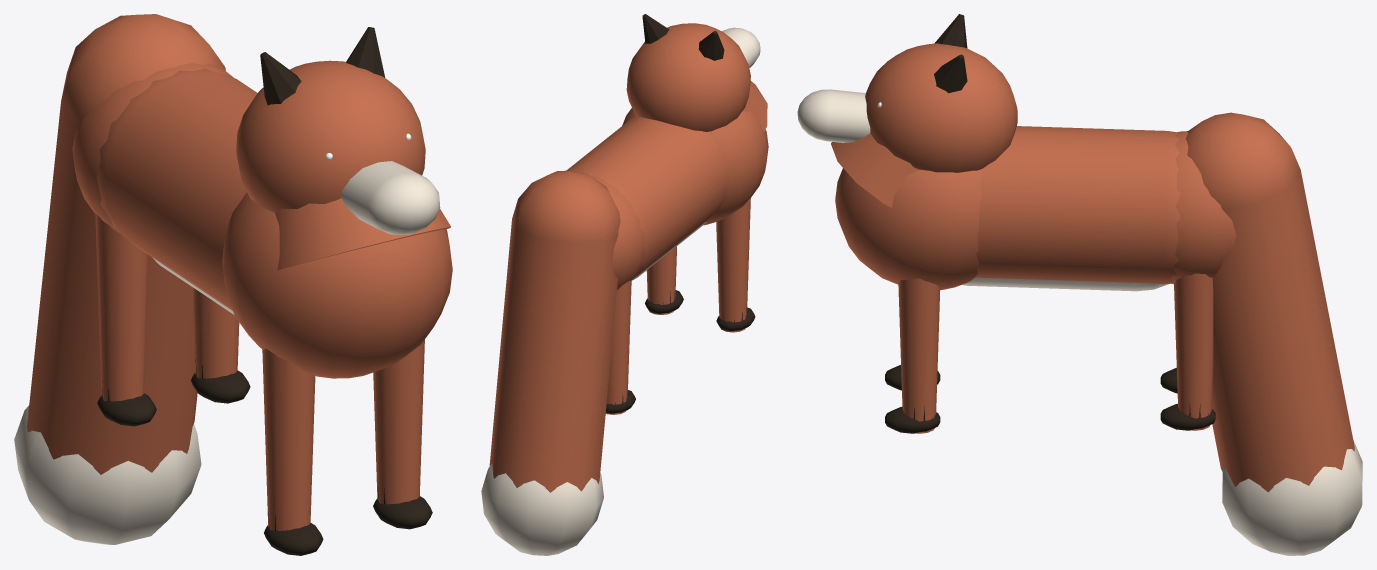
File: h14-rubah.glb
3 renders of one model, left to right at view 1: azimuth 30°, elevation 25°; view 2: azimuth 150°, elevation 25°; view 3: azimuth 270°, elevation 25°, orthographic. The views are drawn at different scales.
Visible parts, largest first — view 1: Rubah, head, neck; view 2: Rubah, head, neck; view 3: Rubah, head, neck.
Boxes of the visible parts, box(x1,y1,x2,y2) form: Rubah: box(14, 14, 452, 555); head: box(236, 27, 440, 234); neck: box(275, 198, 450, 270); Rubah: box(481, 108, 768, 555); head: box(626, 14, 760, 131); neck: box(742, 81, 767, 131); Rubah: box(835, 112, 1362, 555); head: box(797, 14, 1017, 172); neck: box(831, 133, 919, 207).
Size of the model in its own units: 0.28 by 0.8765 by 0.873.
